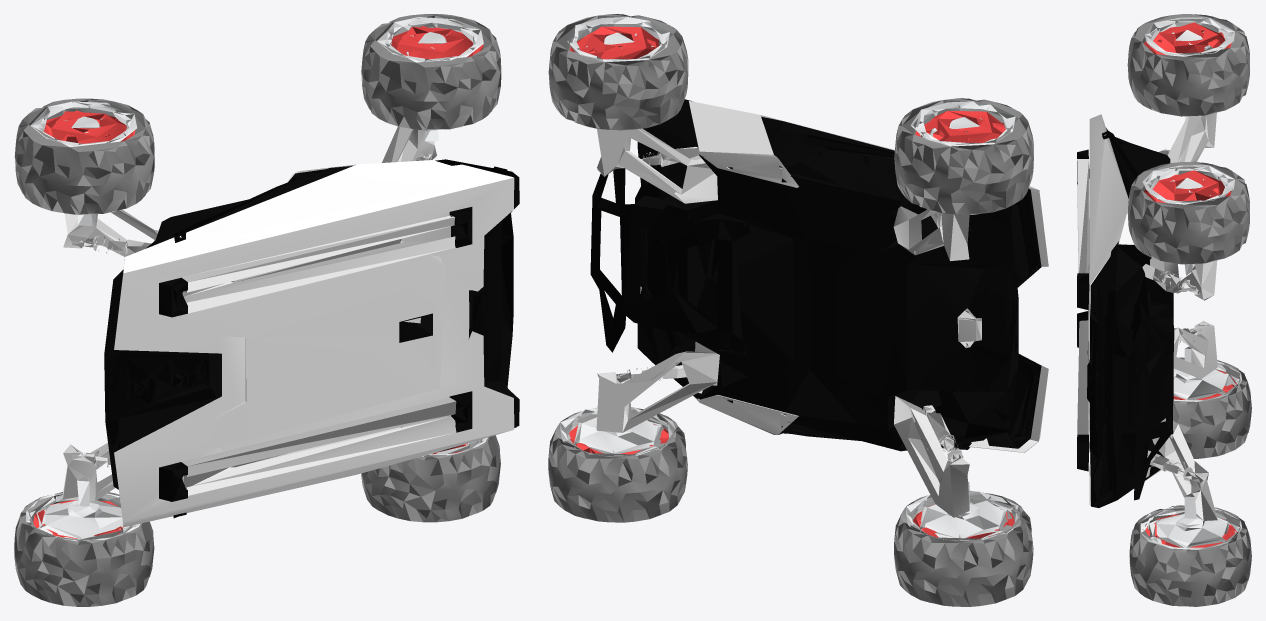
The model's file is scout.glb.
3 views of the same model, side by side, from view 1: azimuth 30°, elevation 25°; view 2: azimuth 150°, elevation 25°; view 3: azimuth 270°, elevation 25° (orthographic). The views are drawn at different scales.
Visible parts, largest first — view 1: scout_mini; view 2: scout_mini; view 3: scout_mini.
Part boxes in pixels (bbox=[...]): scout_mini: bbox=[14, 14, 519, 606]; scout_mini: bbox=[548, 14, 1048, 606]; scout_mini: bbox=[1077, 14, 1251, 606].
Size of the model in its own units: 0.6101 by 0.5764 by 0.226.
